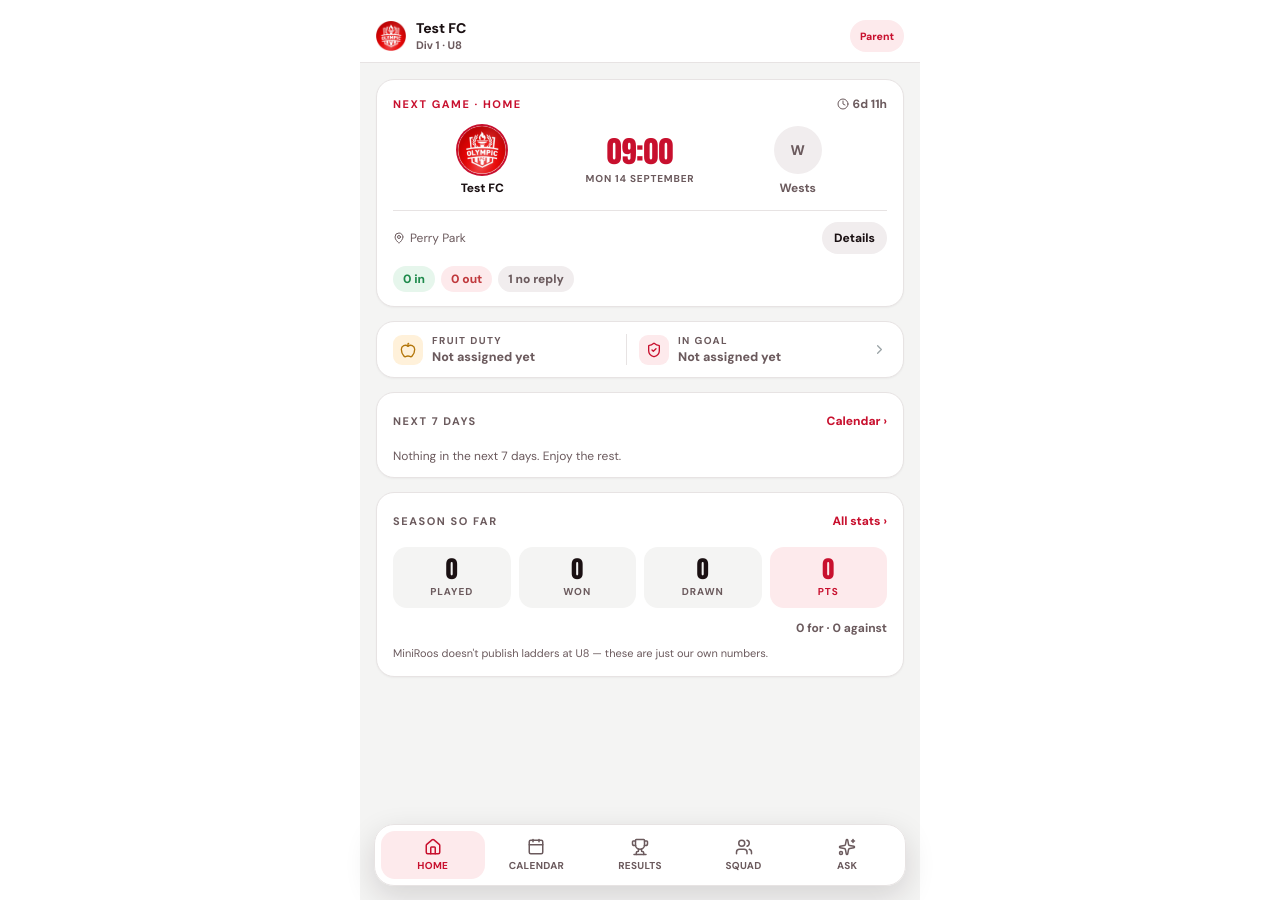
Test: App — account-mode roles (/api/me) › legacy mode: 'Sign in to respond' opens the who's-responding sheet, and the row then names the child
The image size is (1280, 900).
Click the button with aria-label "Viewing as" at coordinates (877, 36), box x1=850 y1=20 x2=904 y2=52
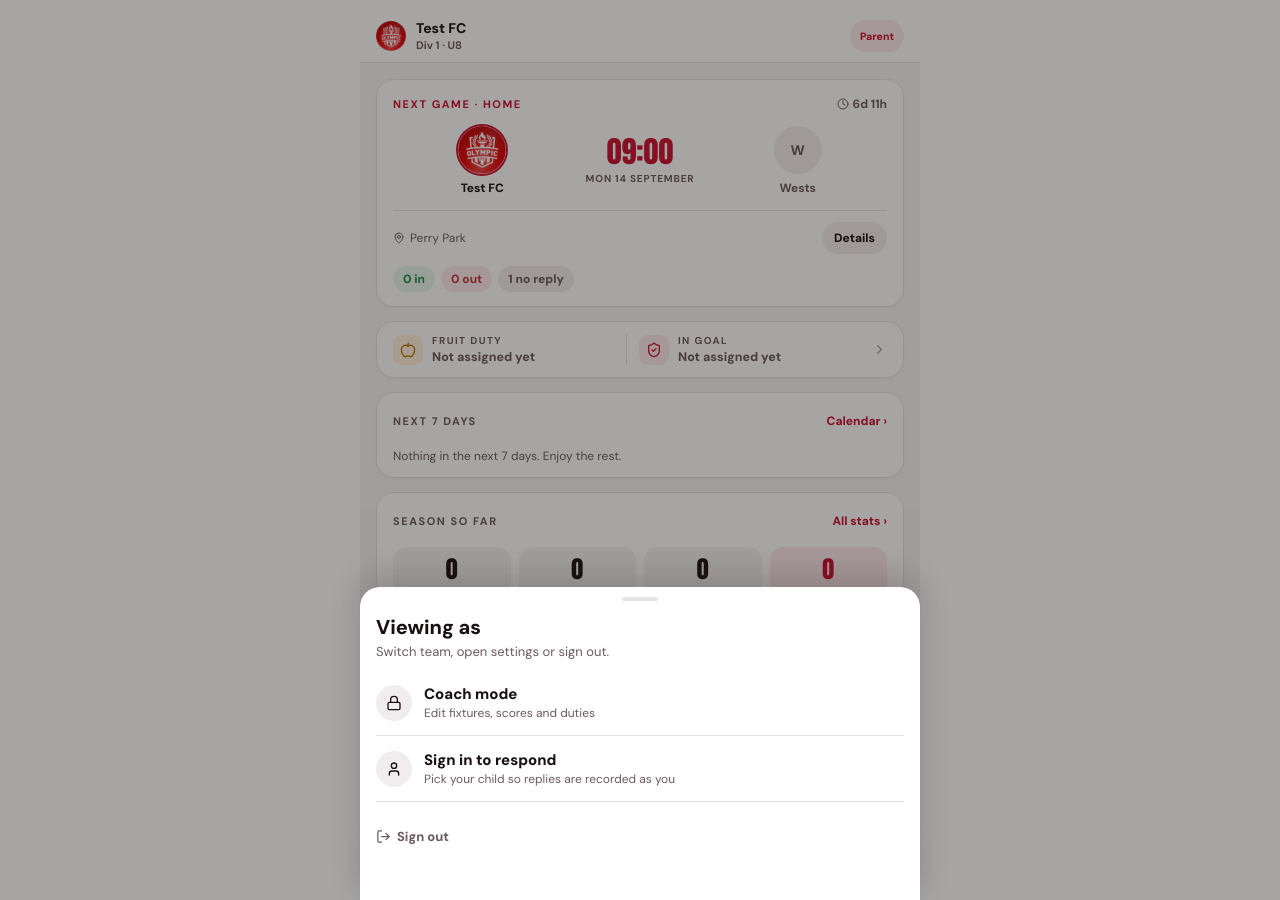
Click the text "Sign in to respond" at coordinates (490, 760), box x1=424 y1=750 x2=556 y2=770
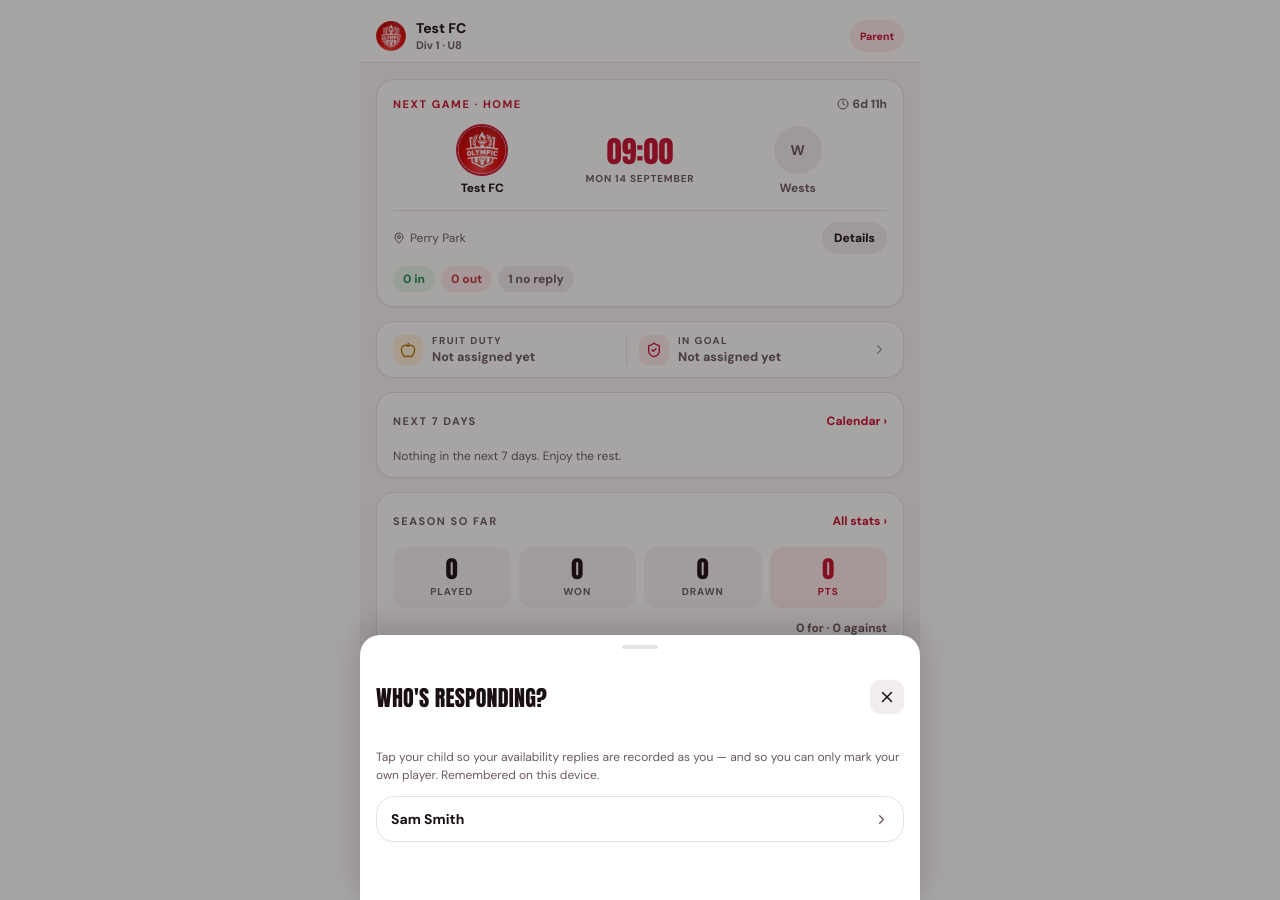
Check: the heading "Who's responding?" is shown, box x1=376 y1=681 x2=547 y2=714
Click the text "Sam Smith" at coordinates (428, 819), box x1=391 y1=810 x2=464 y2=828
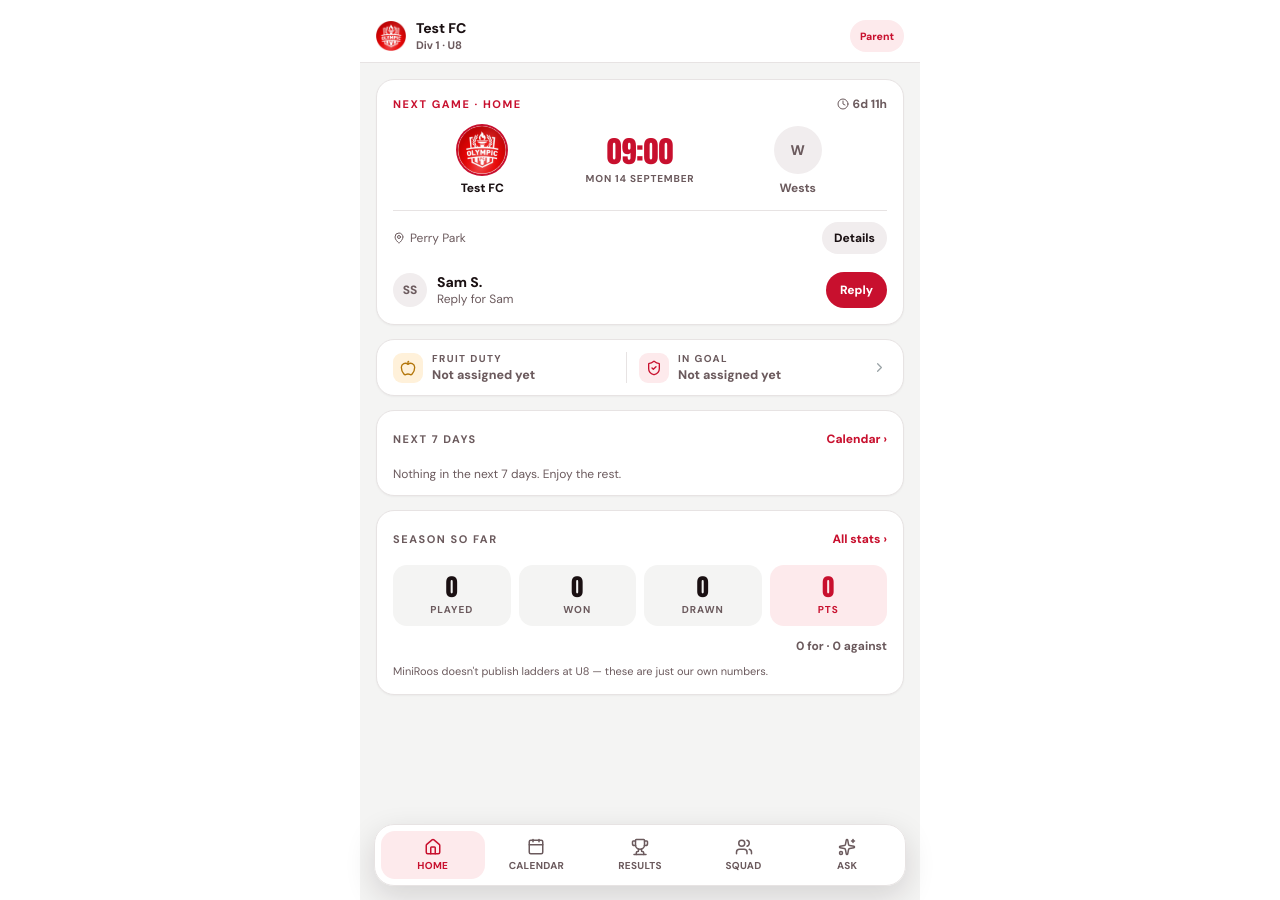
Click the button with aria-label "Viewing as" at coordinates (877, 36), box x1=850 y1=20 x2=904 y2=52
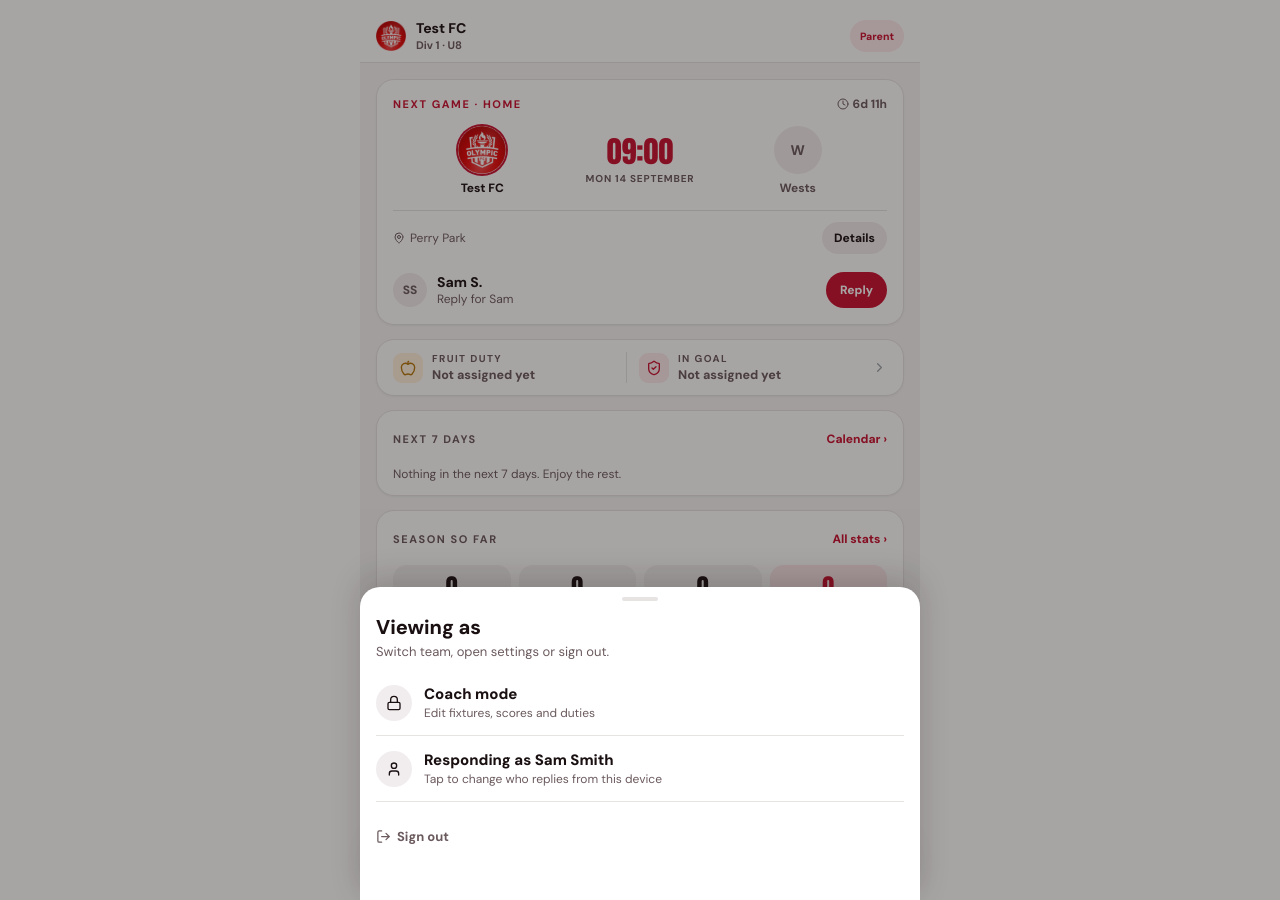
Check: the text "Responding as Sam Smith" is shown, box x1=424 y1=750 x2=614 y2=770
